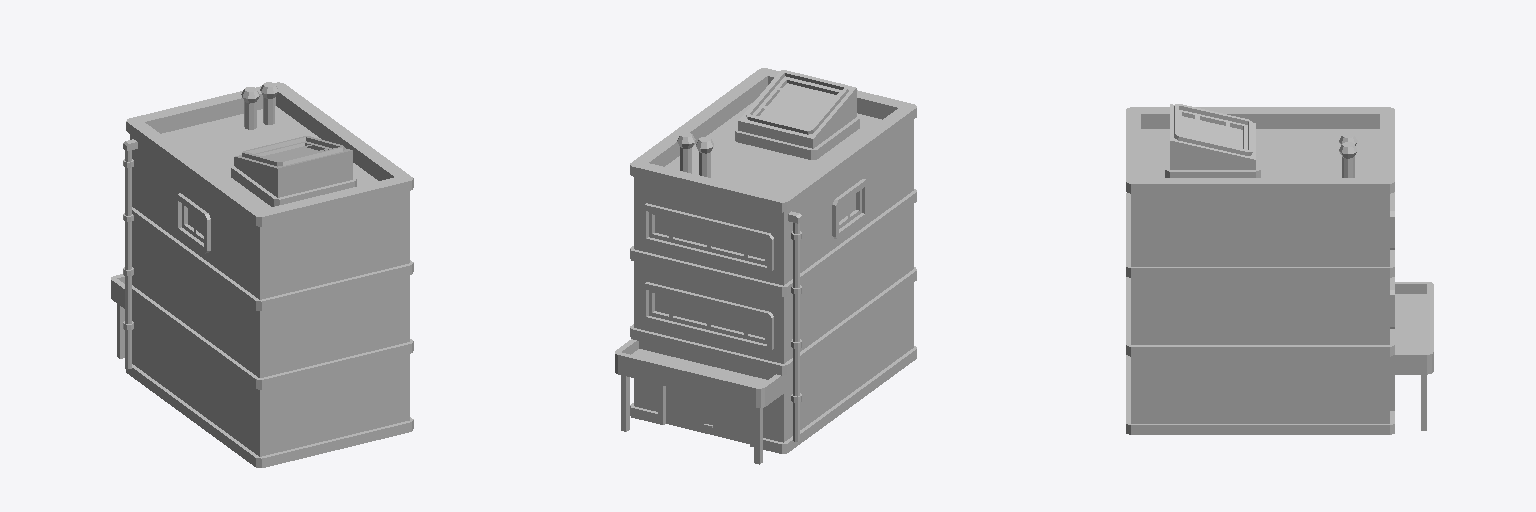
File: industrial_building-d.obj
3 renders of one model, left to right at view 1: azimuth 30°, elevation 25°; view 2: azimuth 150°, elevation 25°; view 3: azimuth 270°, elevation 25°, orthographic.
Parts seen in each view (by area): view 1: building-d; view 2: building-d; view 3: building-d.
Boxes of the visible parts, x1=… form: building-d: x1=111, y1=82, x2=413, y2=467; building-d: x1=615, y1=68, x2=916, y2=464; building-d: x1=1126, y1=104, x2=1433, y2=434.
Bounding box in the file's own units: 0.8836 × 1.41 × 1.42.